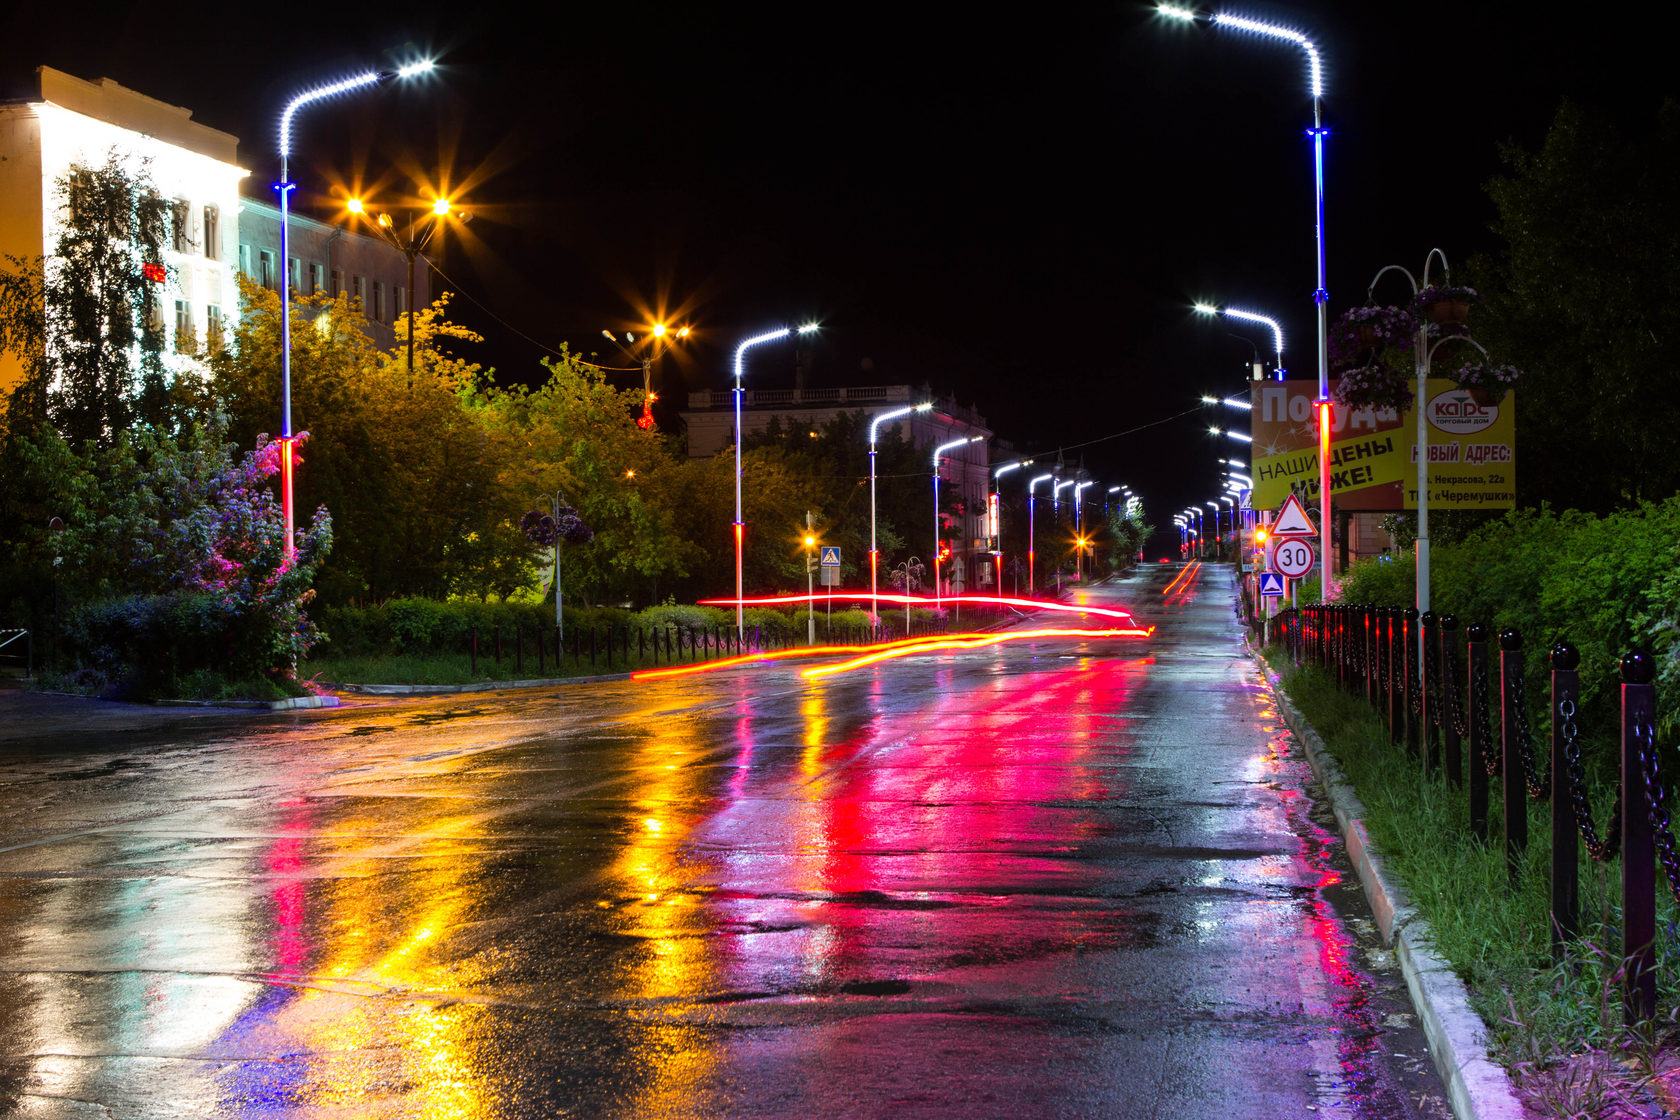sign: (1267, 492, 1319, 536), (1274, 537, 1315, 579), (1257, 567, 1285, 597), (817, 542, 842, 567)
